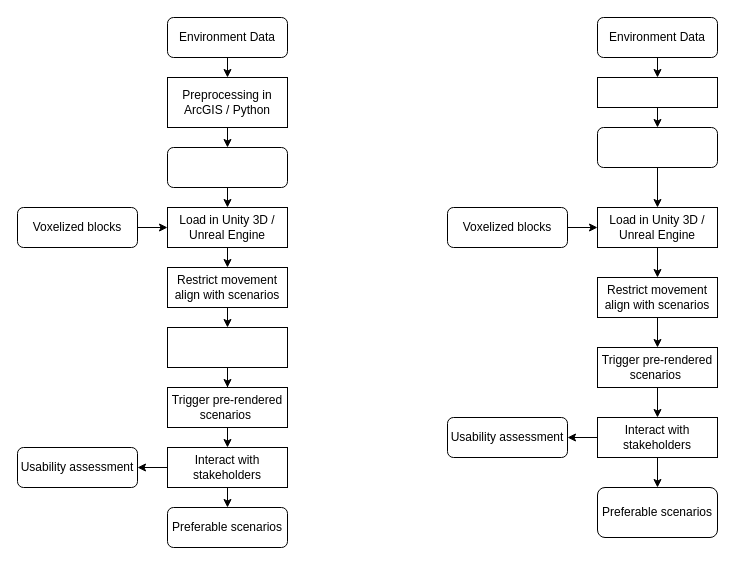
Image size: 735x565. Some labels were removed from this diagram. The shapes that lost their labels are listed below. From the top down, each one's centre as x and y in pixels, then its label:
At point 657,92: "Import in GAMA".
At point 227,167: "Scenarios".
At point 657,147: "Running simulations".
At point 227,347: "Deploy on MR devices".
